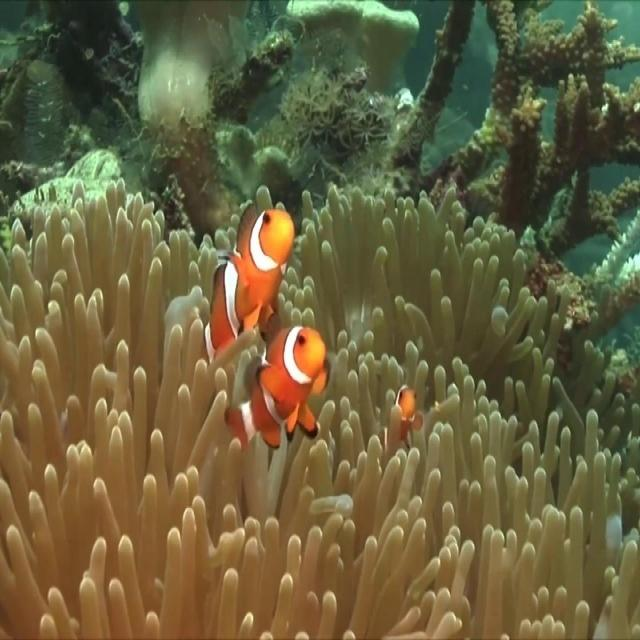fish: (199, 204, 294, 365), (225, 315, 331, 451), (395, 383, 423, 439)
reefs: (0, 178, 639, 639), (393, 0, 639, 257), (136, 1, 249, 249), (284, 0, 420, 97)
